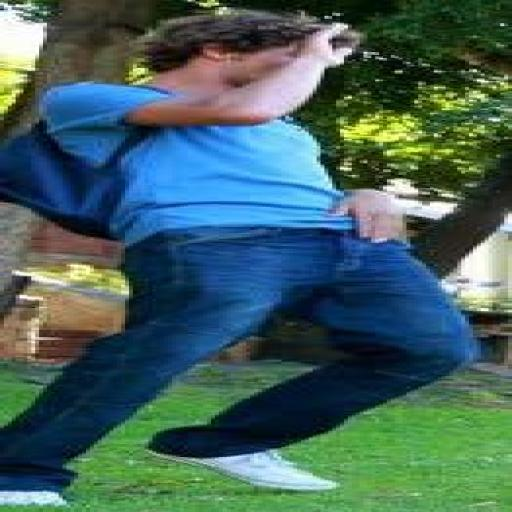person: (0, 11, 476, 504)
